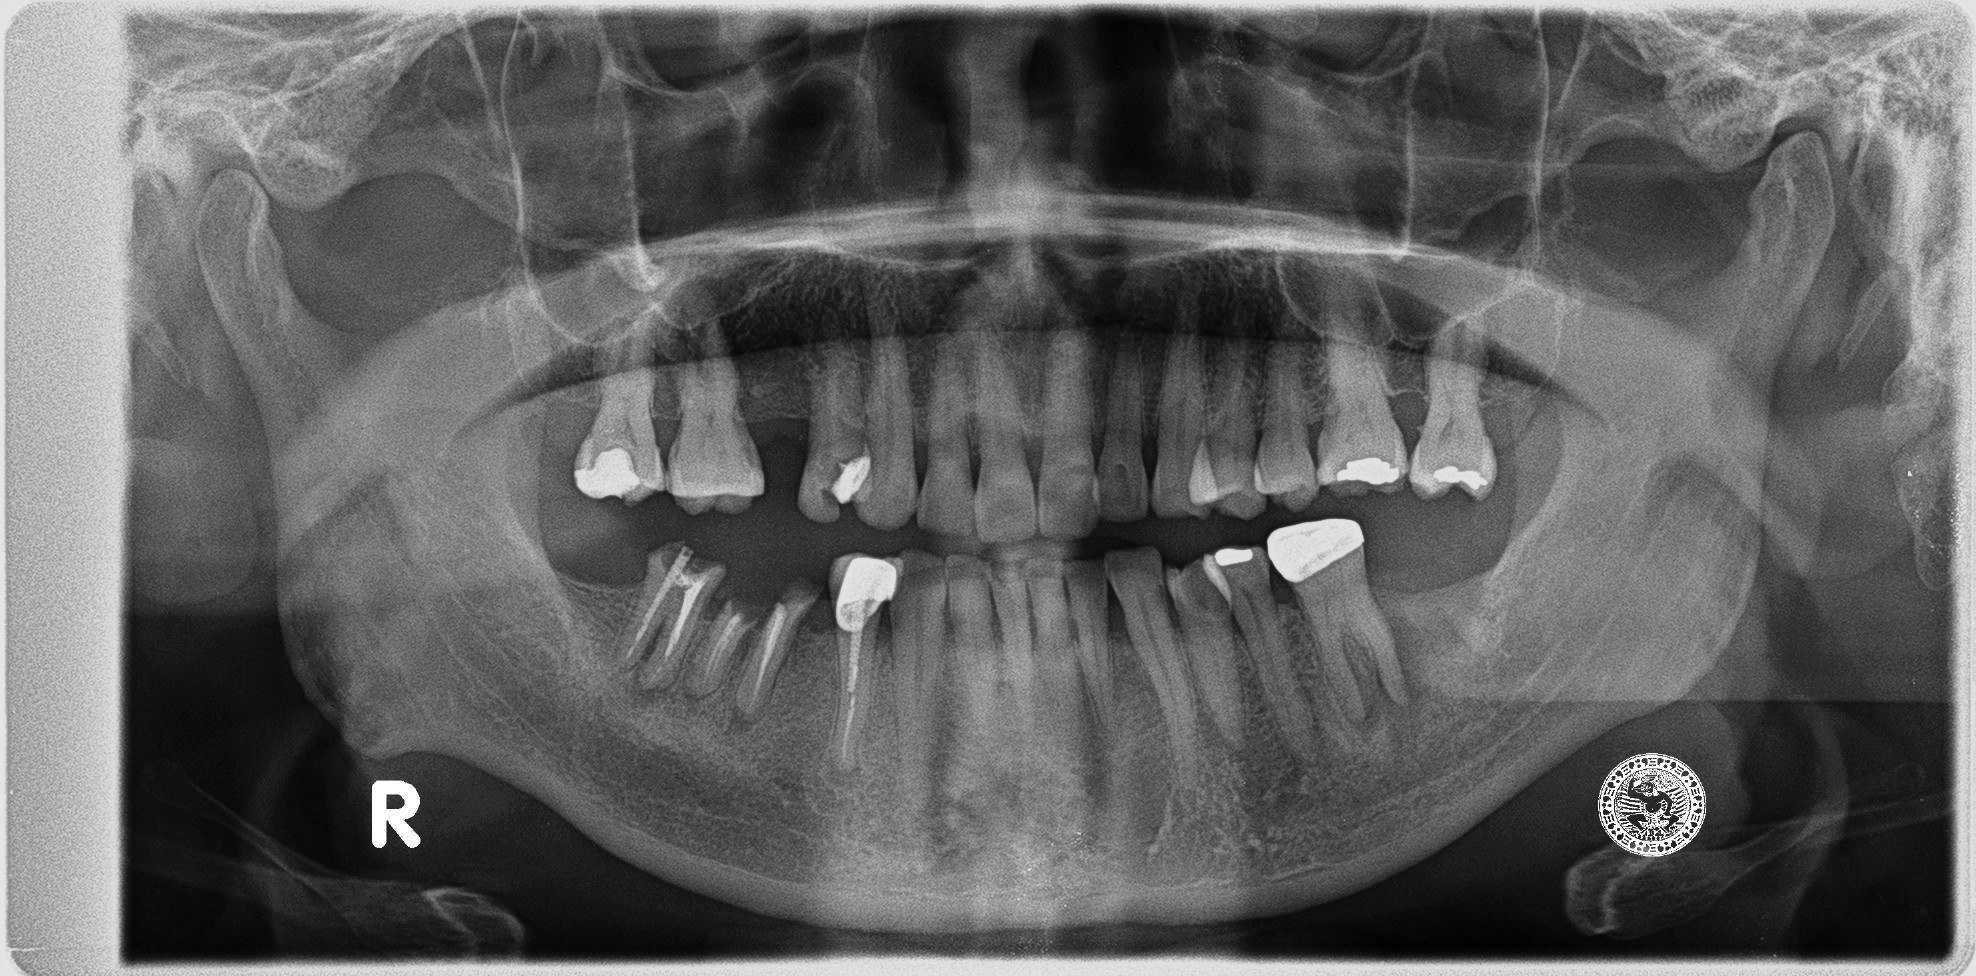Individual Tooth: (1267, 518, 1409, 717), (1203, 547, 1312, 755), (1105, 549, 1196, 762), (667, 317, 762, 514), (573, 309, 664, 503), (1408, 314, 1497, 501), (1317, 311, 1406, 496), (828, 554, 902, 770), (1166, 554, 1243, 750), (623, 543, 725, 691), (853, 298, 917, 528), (798, 318, 870, 522), (890, 550, 946, 808), (1188, 344, 1267, 520), (973, 330, 1036, 542), (1036, 330, 1096, 538), (1153, 337, 1219, 516), (737, 583, 819, 720), (917, 335, 973, 536), (1254, 346, 1317, 509), (1021, 542, 1075, 720), (1098, 337, 1148, 521), (684, 600, 765, 699), (945, 554, 996, 706), (1066, 560, 1111, 720), (991, 552, 1035, 711)
